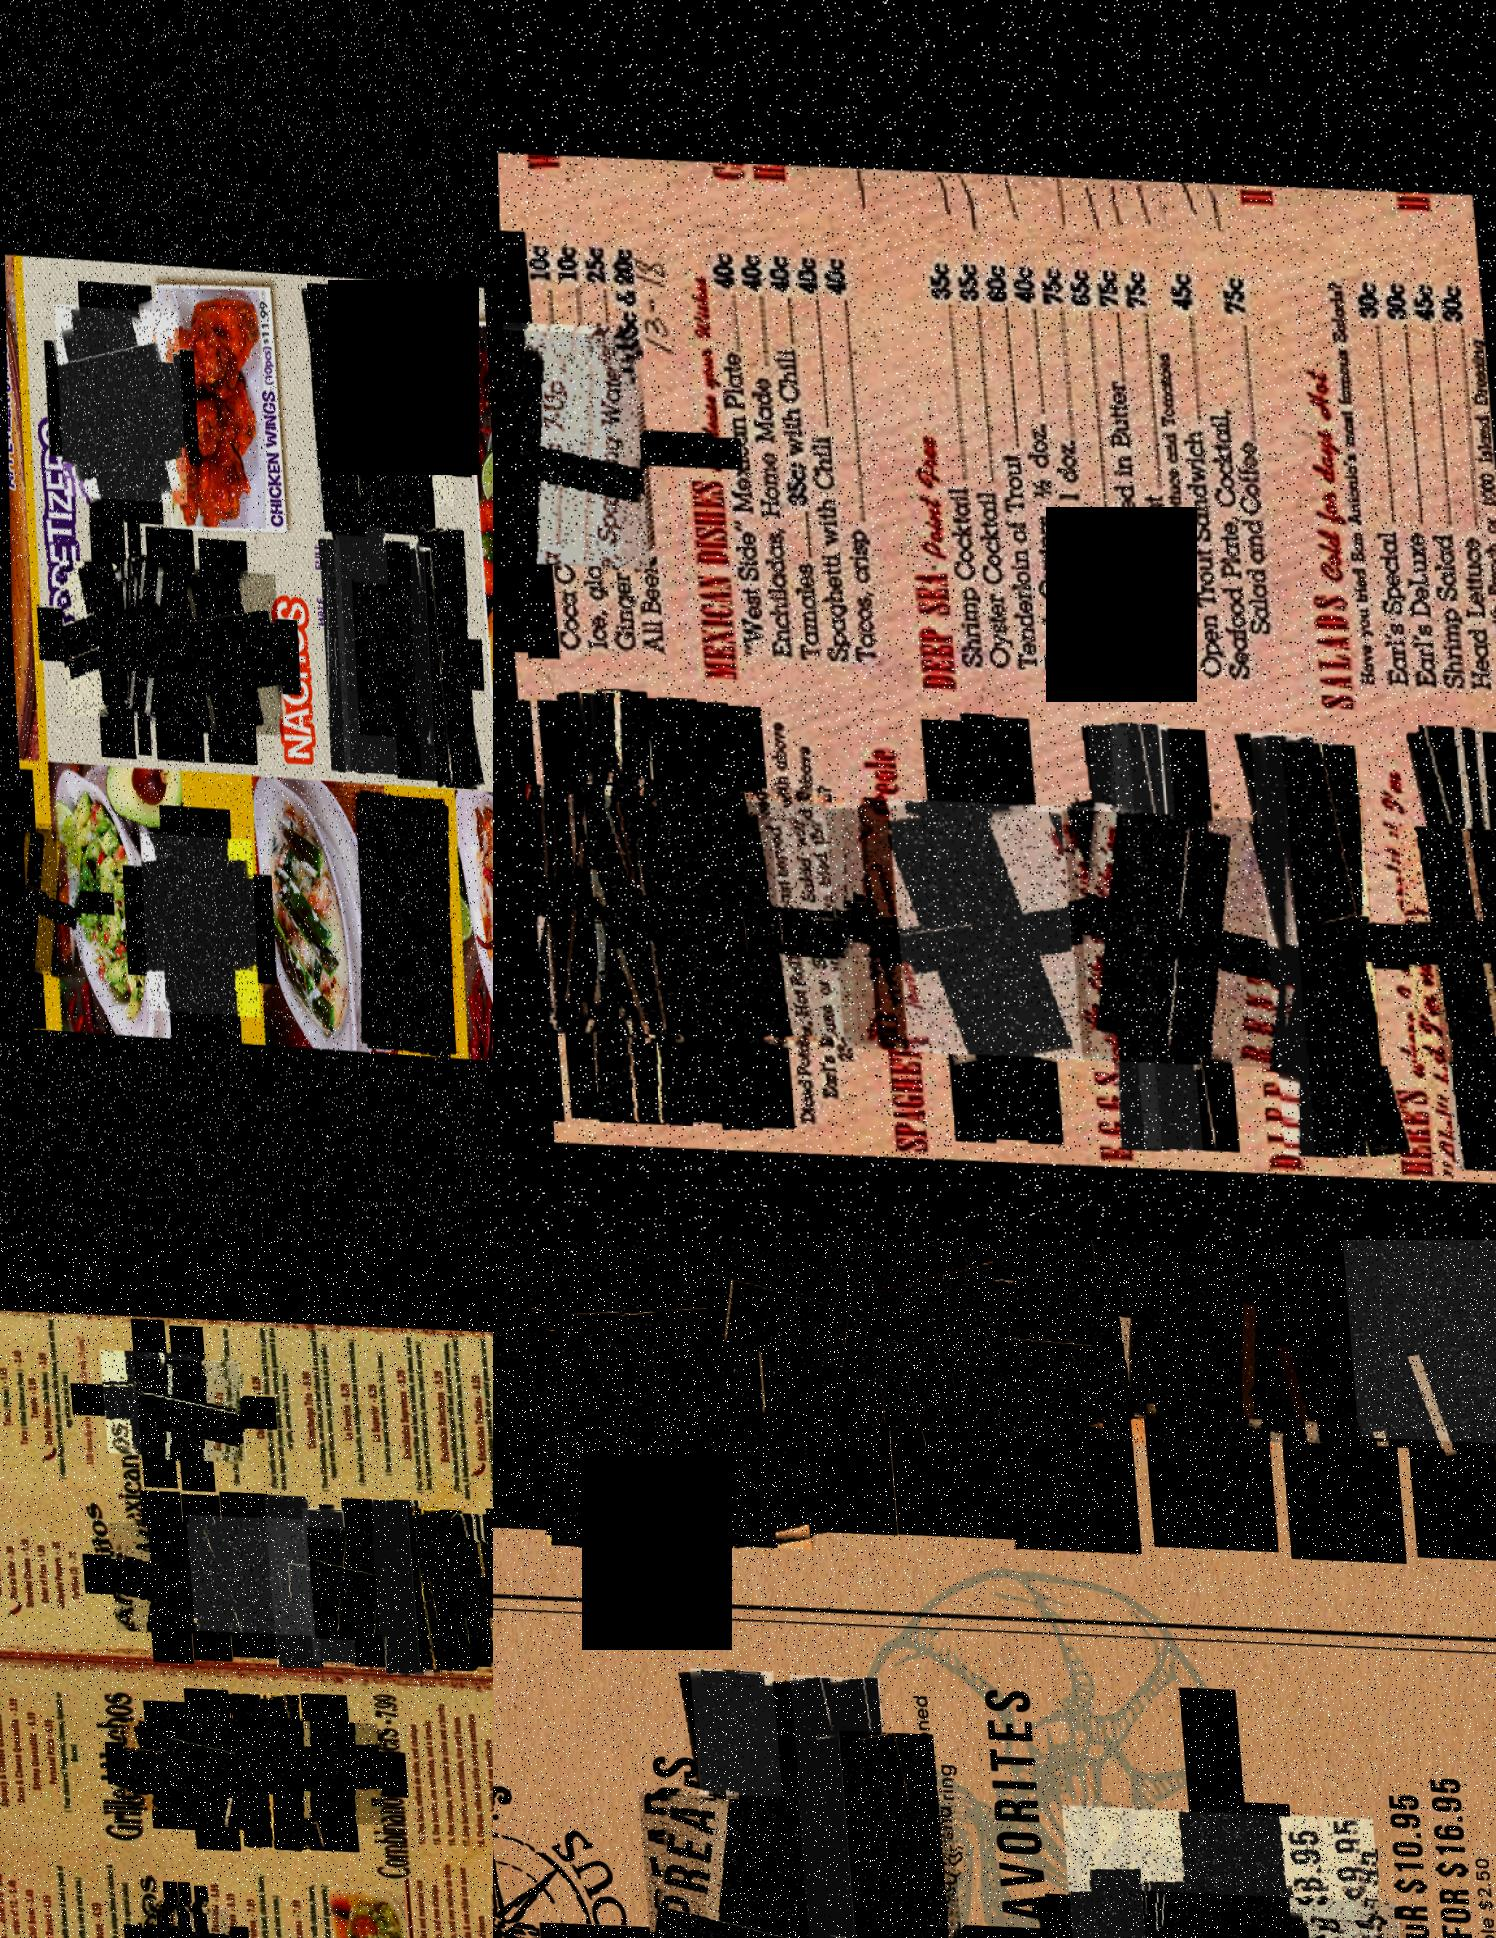Menu-Items: (828, 1240, 1267, 1449), (684, 1240, 1166, 1421), (970, 1240, 1403, 1426), (1109, 1240, 1496, 1448), (583, 767, 858, 1052), (886, 776, 1160, 1061), (553, 764, 827, 1047), (1059, 783, 1331, 1064), (856, 776, 1124, 1055), (820, 781, 1086, 1058), (569, 1240, 808, 1547), (636, 1240, 992, 1437), (627, 780, 882, 1042), (536, 778, 781, 1033), (629, 1764, 970, 1938), (1051, 1768, 1388, 1938), (1205, 1240, 1496, 1429), (493, 1240, 669, 1547), (574, 682, 682, 1124), (519, 773, 695, 1039), (1278, 721, 1388, 1143), (1188, 244, 1287, 674), (1245, 707, 1340, 1141), (493, 1240, 687, 1449), (500, 316, 652, 571), (1111, 706, 1201, 1138), (1414, 701, 1496, 1154), (783, 1658, 915, 1938), (682, 1654, 809, 1938), (1113, 228, 1194, 670), (520, 781, 657, 1039), (1083, 709, 1160, 1138), (561, 687, 632, 1121), (500, 313, 622, 561), (347, 772, 456, 1048), (814, 225, 882, 665), (831, 1713, 962, 1938), (53, 286, 185, 506), (759, 228, 825, 666), (574, 218, 640, 654), (728, 228, 792, 660), (786, 226, 849, 663), (1163, 236, 1226, 673), (701, 225, 764, 659), (603, 220, 666, 652), (1004, 236, 1067, 660), (977, 233, 1039, 663), (1392, 798, 1496, 1052), (1034, 237, 1094, 674), (921, 236, 981, 666), (522, 231, 580, 660), (548, 229, 607, 659), (1062, 244, 1120, 670), (1086, 237, 1144, 662), (330, 297, 451, 500), (135, 817, 256, 1017), (955, 236, 1012, 660), (1133, 1859, 1411, 1938), (171, 552, 281, 734), (118, 547, 228, 728), (57, 542, 165, 721), (352, 558, 459, 732), (333, 506, 398, 765), (1413, 1738, 1494, 1938), (185, 1501, 310, 1632), (149, 1698, 270, 1826), (305, 267, 363, 527), (105, 1506, 225, 1632), (146, 1507, 264, 1632), (305, 1509, 423, 1633), (1369, 1760, 1450, 1938), (423, 503, 475, 775), (137, 1342, 248, 1459), (94, 560, 182, 706), (99, 1339, 209, 1455), (272, 1705, 380, 1819), (407, 1488, 476, 1660), (369, 1485, 434, 1666), (1322, 1795, 1402, 1938), (1281, 1801, 1359, 1938), (17, 816, 80, 979), (261, 1484, 317, 1661), (118, 1707, 214, 1811), (245, 1314, 300, 1488), (424, 1319, 478, 1498), (292, 1314, 344, 1496), (256, 1682, 314, 1844), (407, 523, 445, 767), (299, 1492, 354, 1654), (207, 1316, 253, 1490), (317, 525, 350, 761), (393, 1322, 437, 1493), (226, 1683, 272, 1841), (453, 1496, 493, 1654), (460, 1316, 493, 1495), (19, 822, 58, 971), (358, 1325, 398, 1474), (335, 1323, 369, 1488), (454, 1518, 493, 1636), (134, 1889, 203, 1938), (151, 1891, 214, 1938), (170, 1892, 228, 1938)
